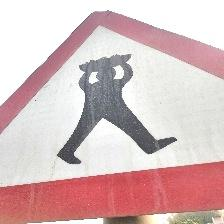Market-in-front: (1, 9, 223, 221)
